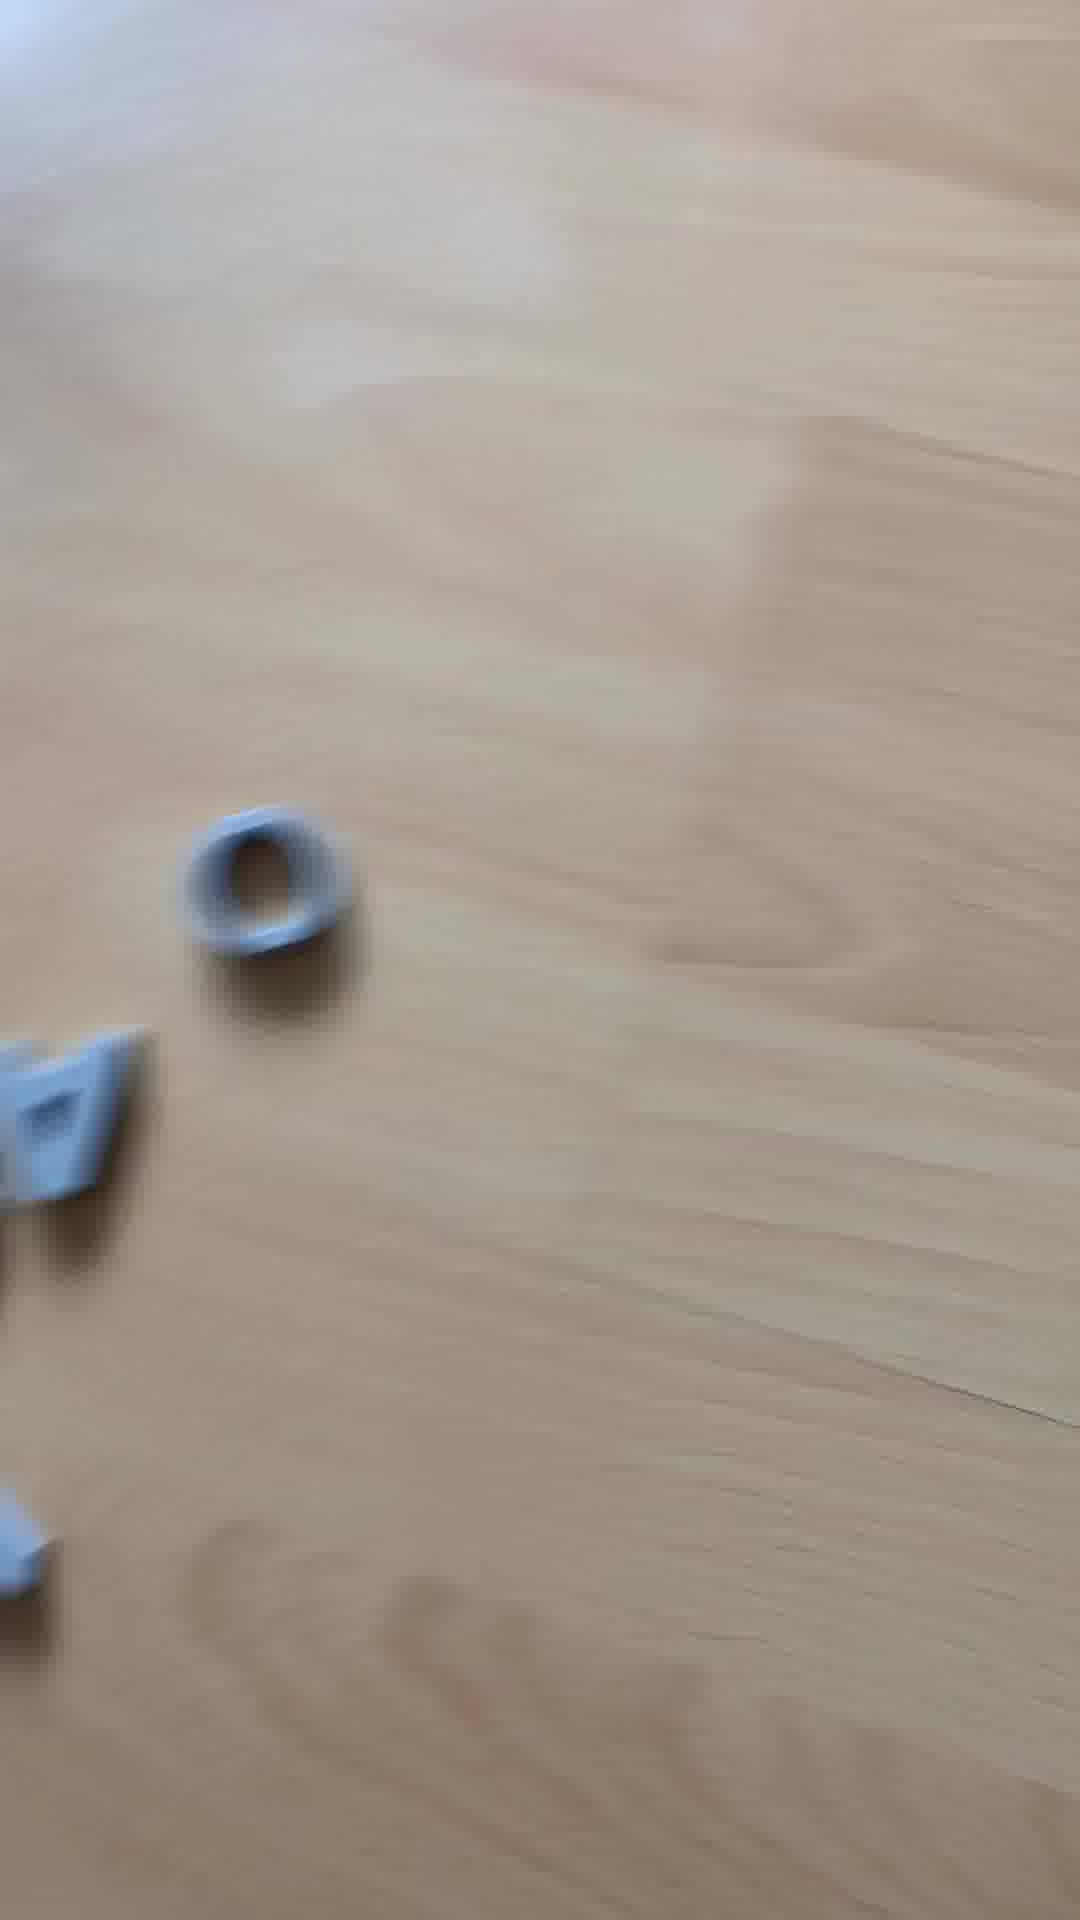Gray A-letter: (1, 1021, 149, 1228)
Gray ring: (185, 812, 347, 981)
